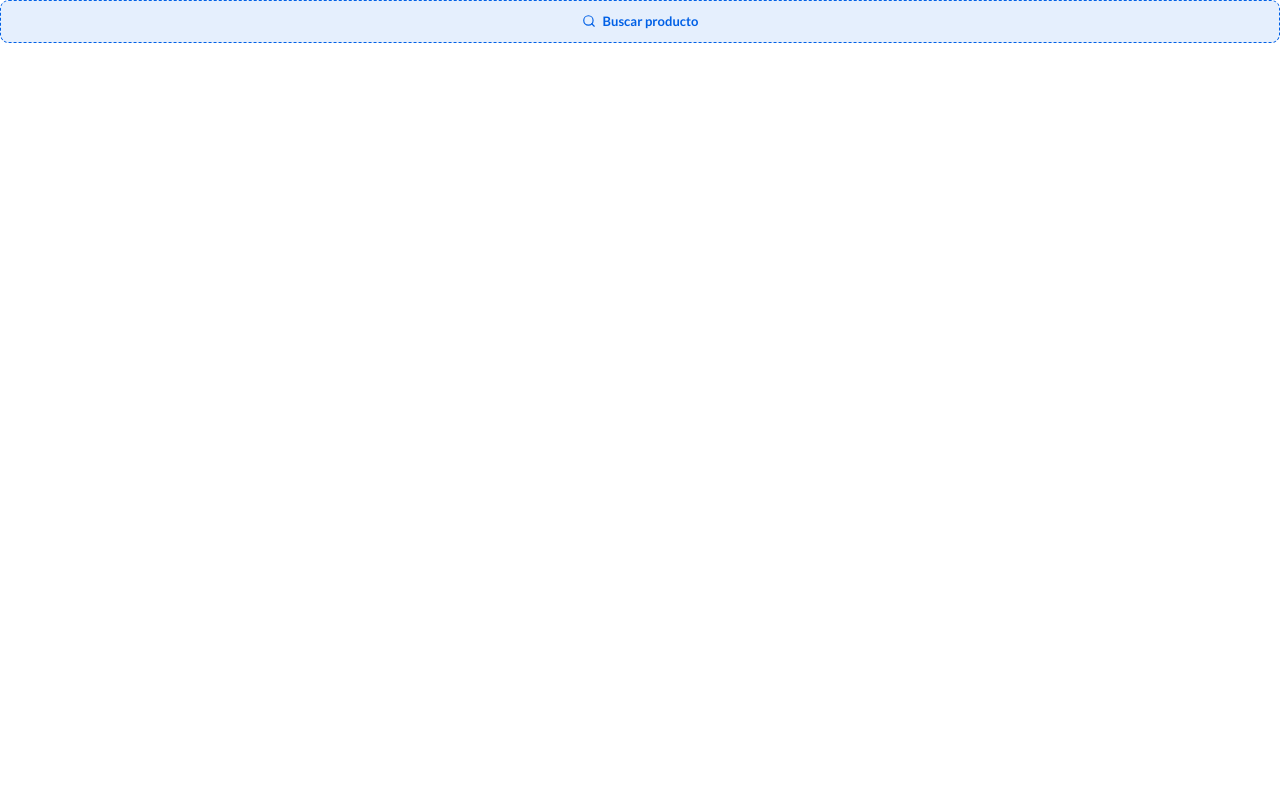
Scenario: BuscadorProductoMovil (D-038) › al tocar un producto despliega el editor debajo de ese renglón
Click the button "Buscar producto": (640, 21) x1=0 y1=0 x2=1279 y2=42
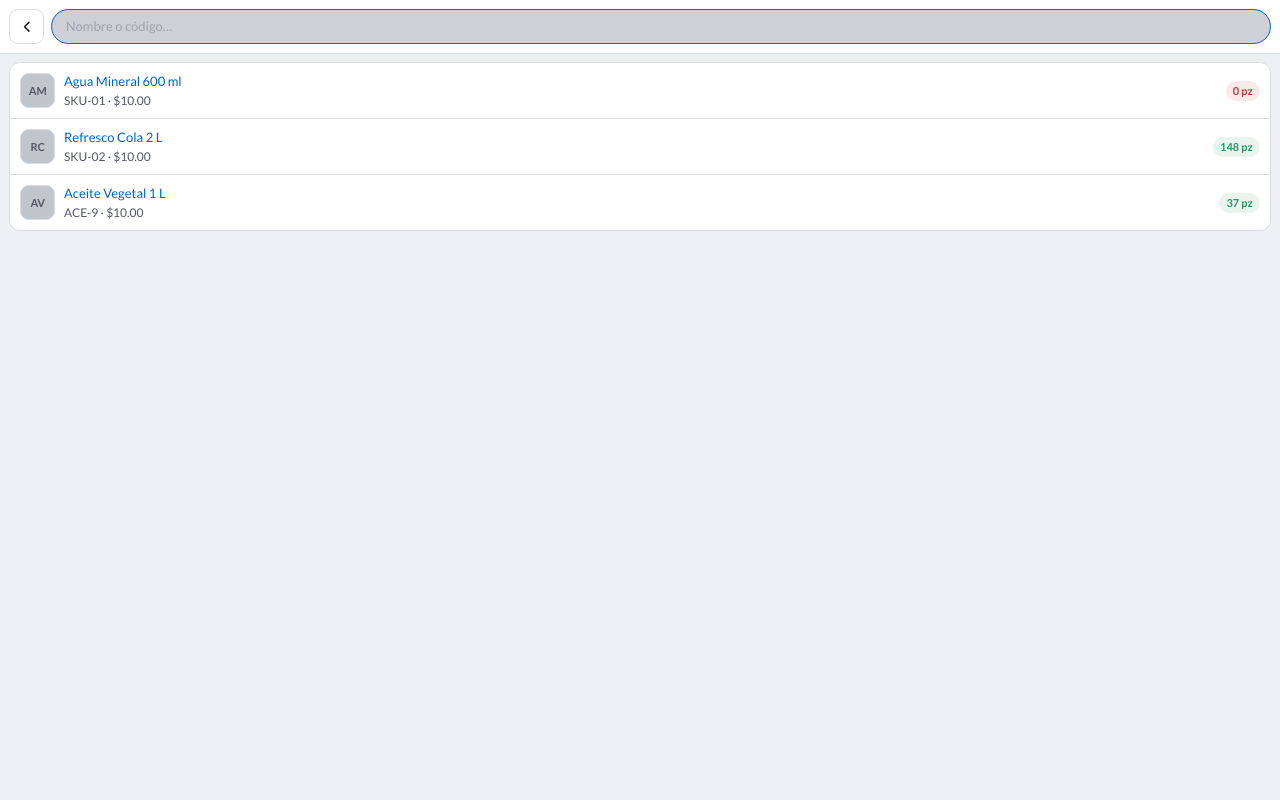
Click the button "RC Refresco Cola 2 L SKU-02 · $10.00 148 pz": (38, 147) x1=10 y1=119 x2=1270 y2=174
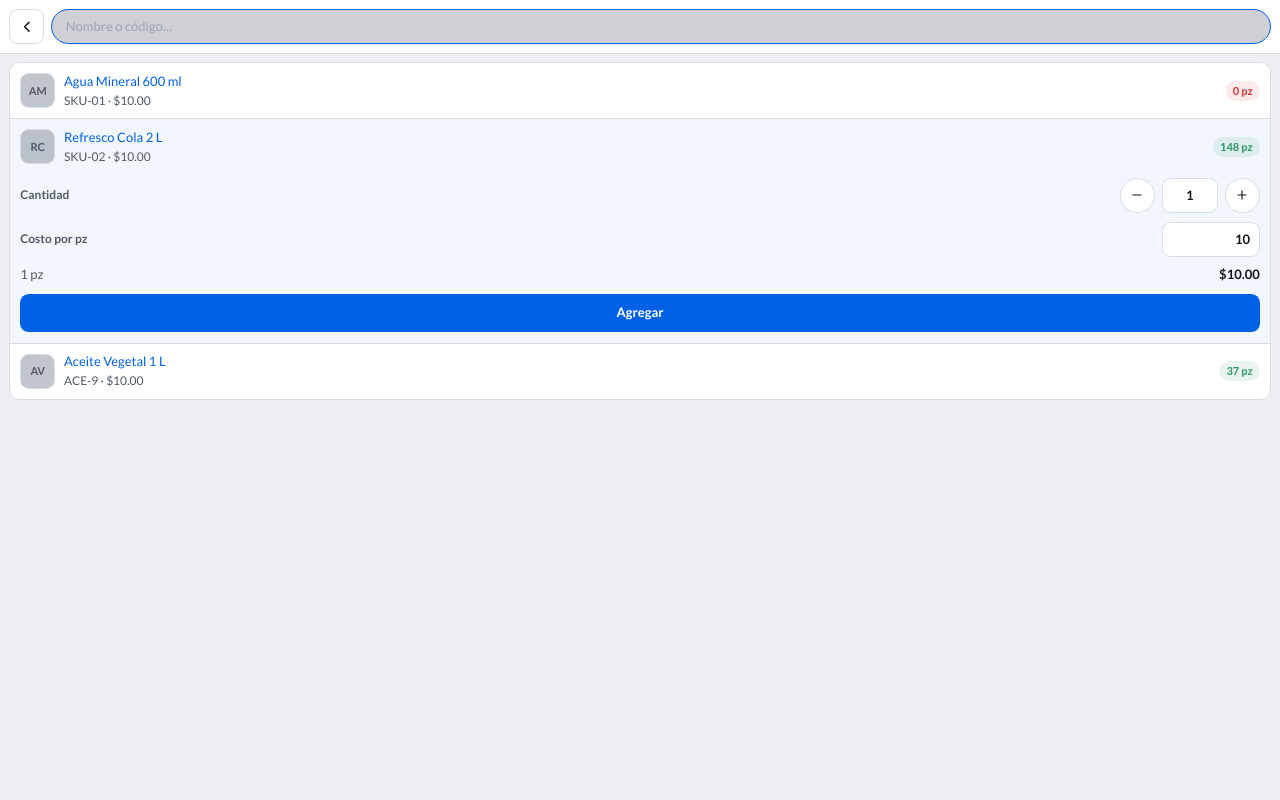
Expected: the field with id "buscador-cant-b" is shown, x1=1162 y1=178 x2=1218 y2=213
